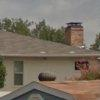Chimney: (57, 16, 93, 51)
